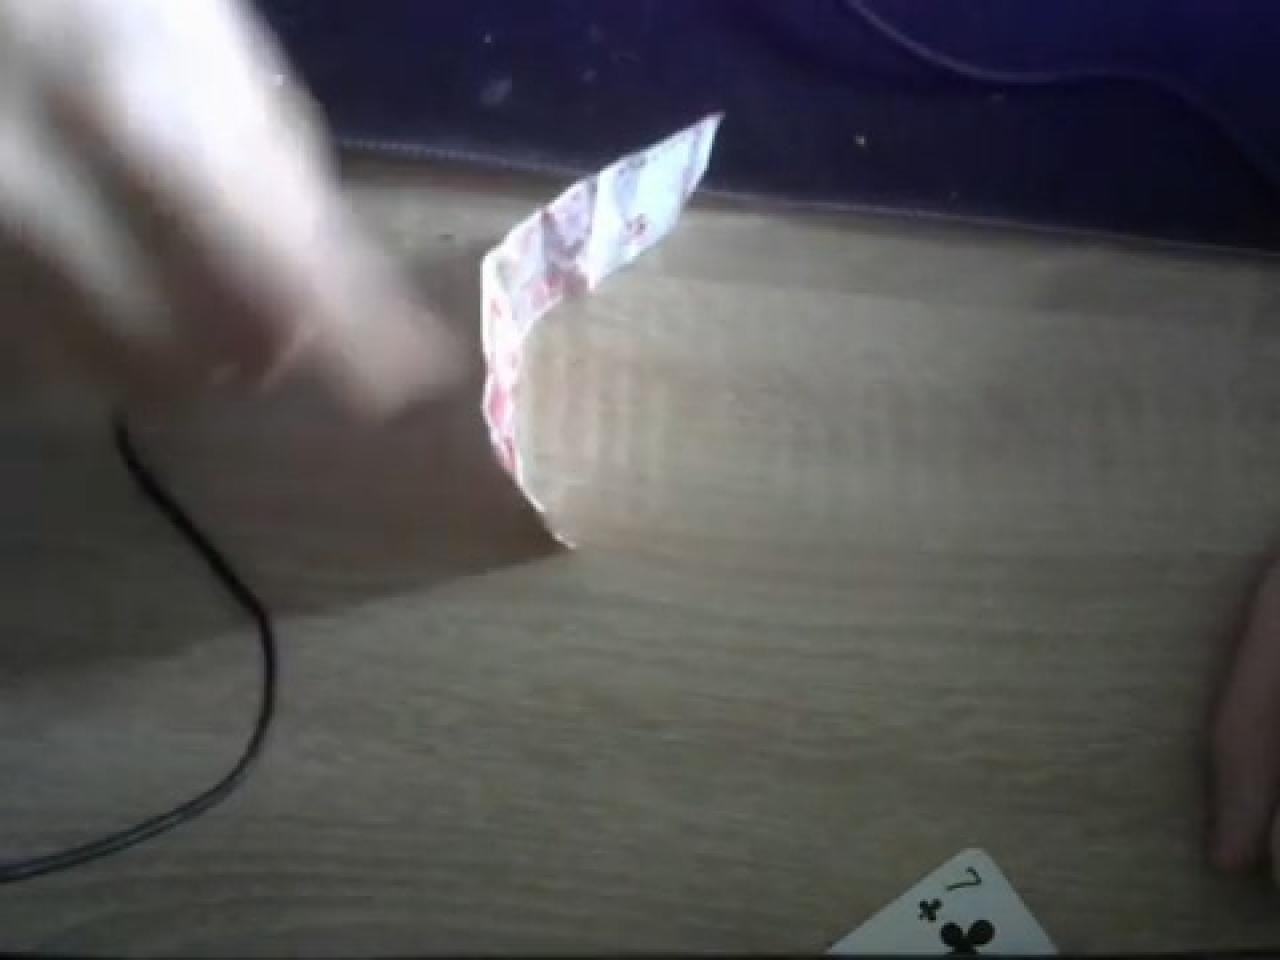5leva: (483, 115, 723, 469)
